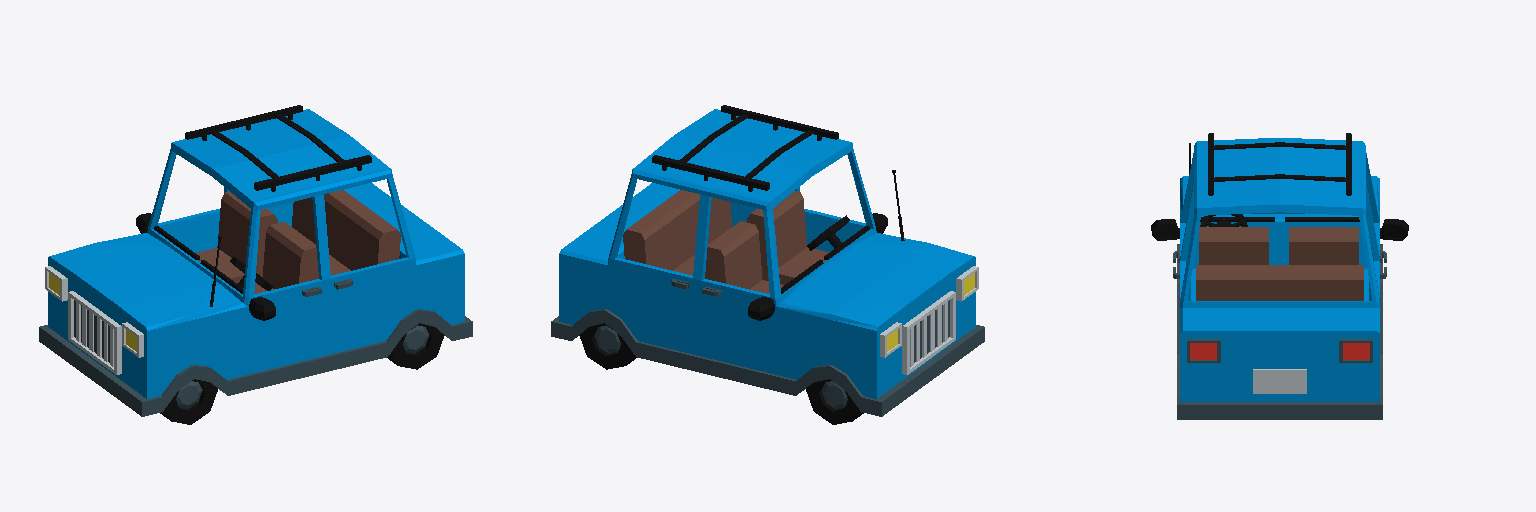
The model's file is car_02.obj.
3 renders of one model, left to right at view 1: azimuth 30°, elevation 25°; view 2: azimuth 150°, elevation 25°; view 3: azimuth 270°, elevation 25°, orthographic.
Visible parts, largest first — view 1: car_01_Cube.004; view 2: car_01_Cube.004; view 3: car_01_Cube.004.
Part boxes in pixels (bbox=[...]): car_01_Cube.004: bbox=[39, 105, 472, 424]; car_01_Cube.004: bbox=[551, 105, 984, 424]; car_01_Cube.004: bbox=[1151, 133, 1408, 419].
Size of the model in its own units: 323 by 200 by 218.